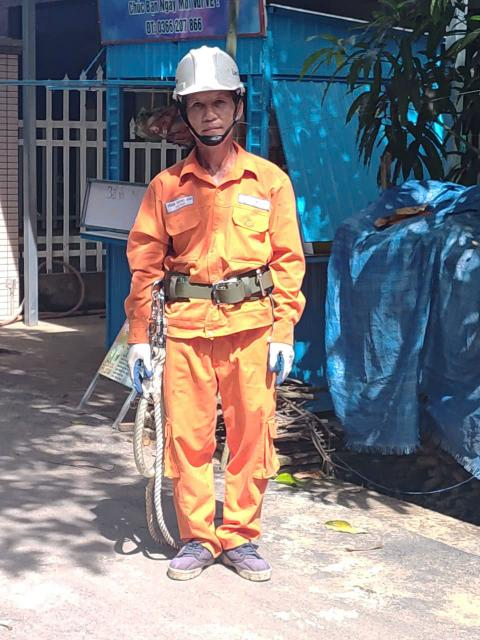gloves: (267, 333, 298, 386), (126, 341, 156, 393)
harness: (139, 262, 282, 313)
helmet: (166, 31, 259, 112)
shoes: (162, 514, 217, 585), (218, 522, 274, 591)
